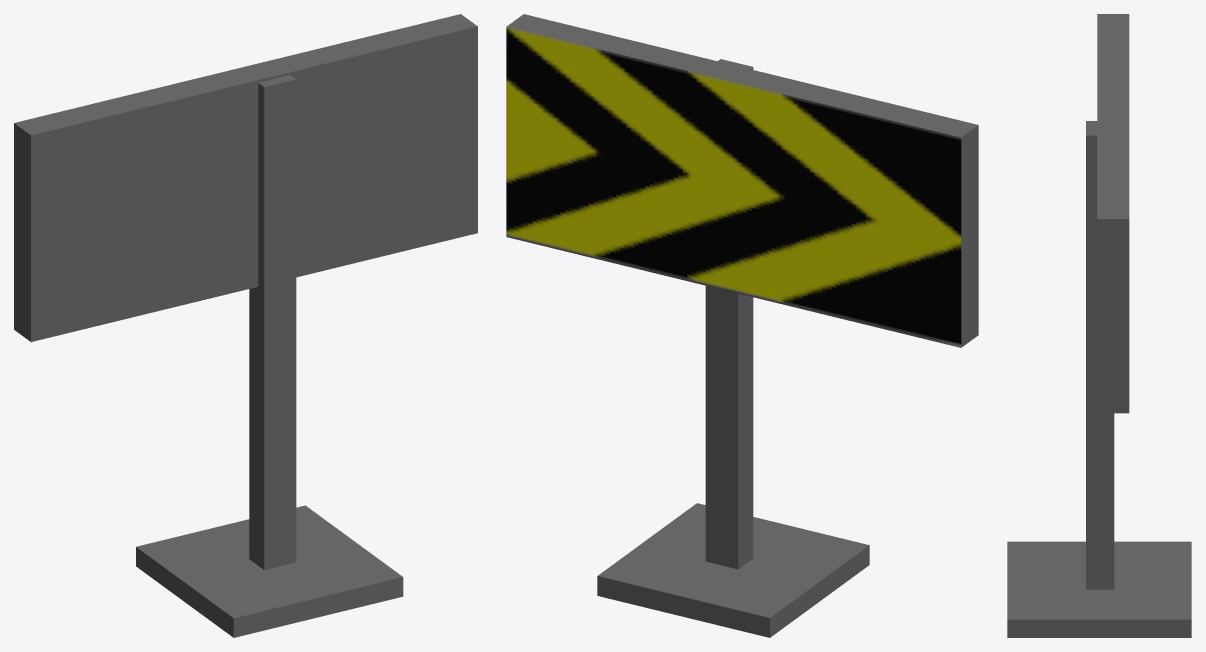
File: RaceSign3.fbx
3 renders of one model, left to right at view 1: azimuth 30°, elevation 25°; view 2: azimuth 150°, elevation 25°; view 3: azimuth 270°, elevation 25°, orthographic. The views are drawn at different scales.
Parts seen in each view (by area): view 1: Tabela2; view 2: Tabela2; view 3: Tabela2.
Boxes of the visible parts, x1=… form: Tabela2: x1=14, y1=14, x2=477, y2=637; Tabela2: x1=506, y1=14, x2=978, y2=637; Tabela2: x1=1007, y1=14, x2=1191, y2=637.
Size of the model in its own units: 2.11 by 2.28 by 0.8.
